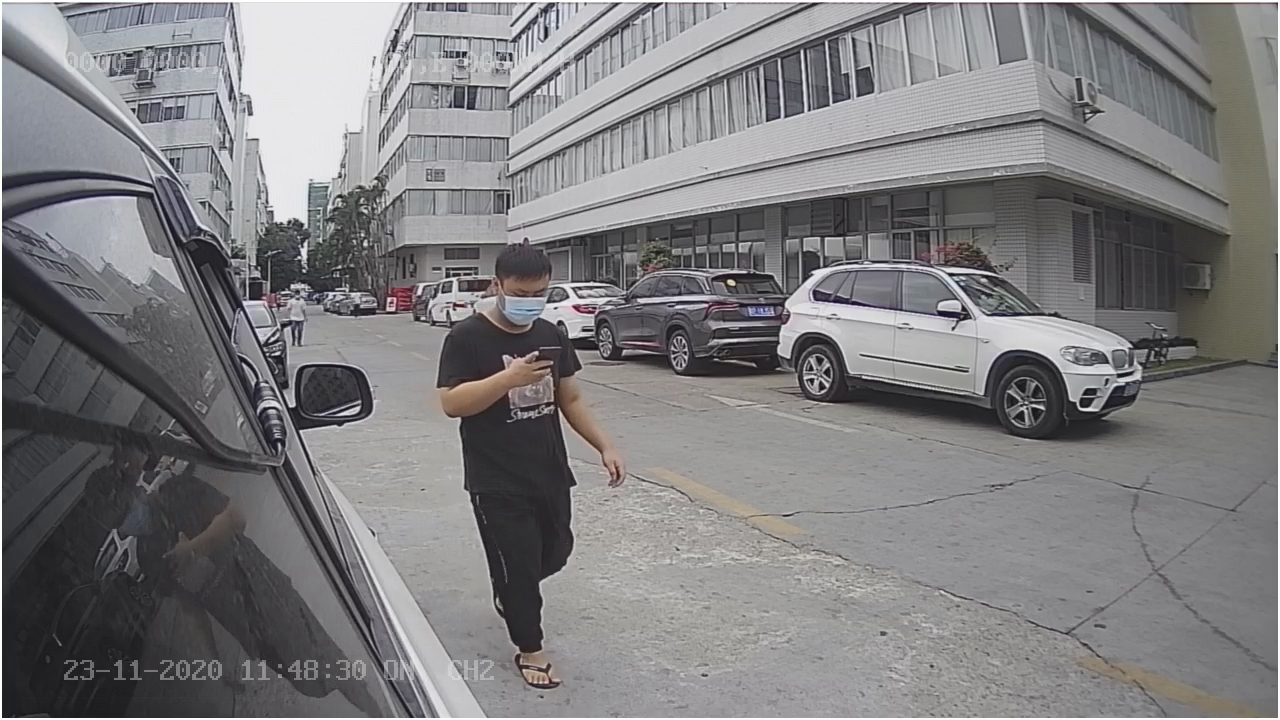person: (433, 239, 625, 517)
